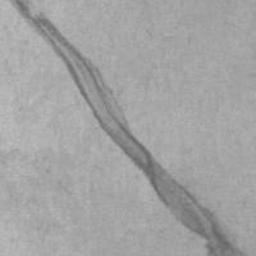Water spot: (12, 0, 252, 256)
